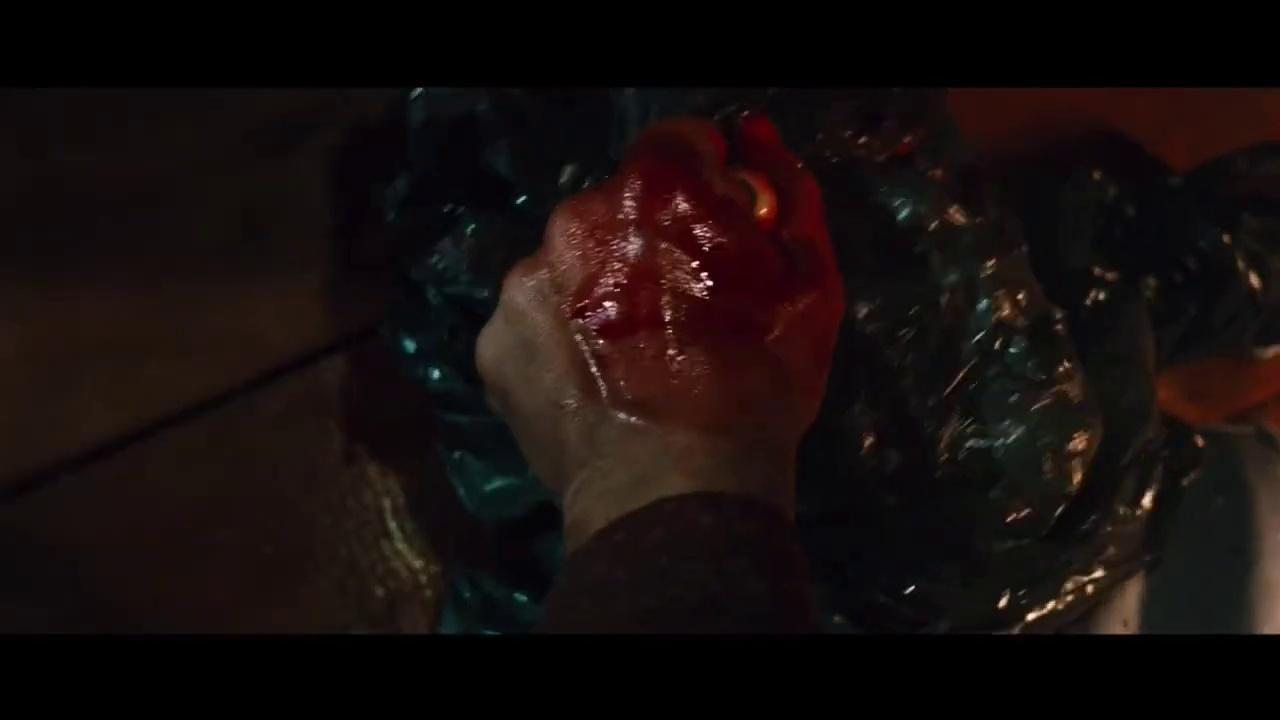Fire: (507, 113, 845, 481)
